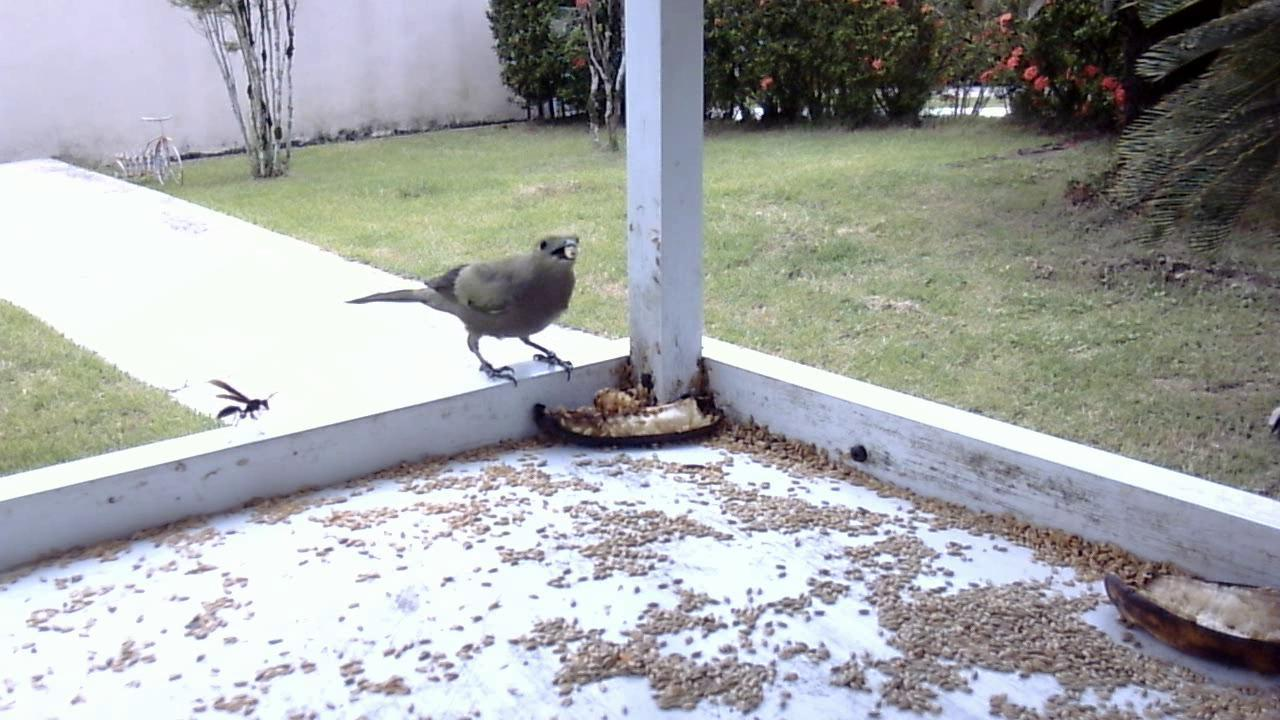sanhaco_do_coqueiro: (343, 226, 586, 404)
